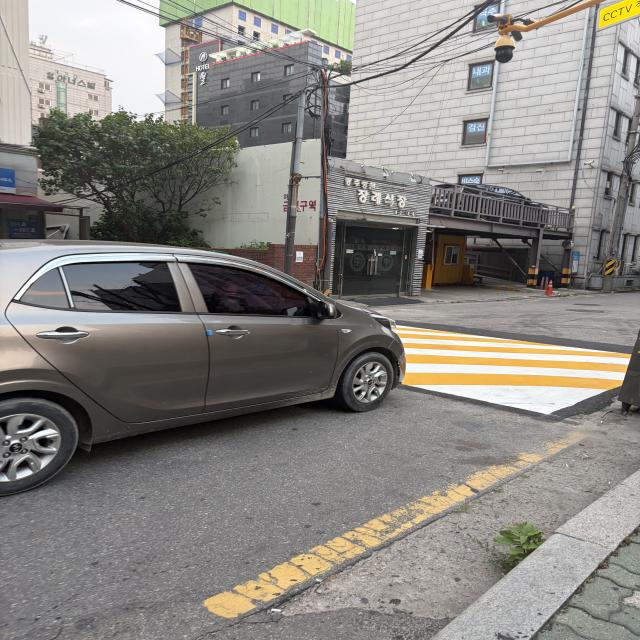car: (0, 231, 427, 508)
